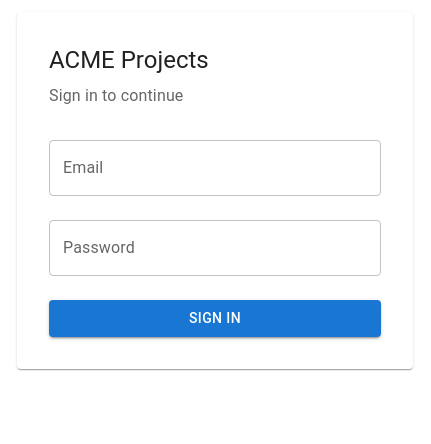
Test: signing in › shows why sign-in failed
The width and height of the screenshot is (431, 444).
Type "a@b.co" into the field labelled "Email" at (215, 168), box [49,140,381,196]
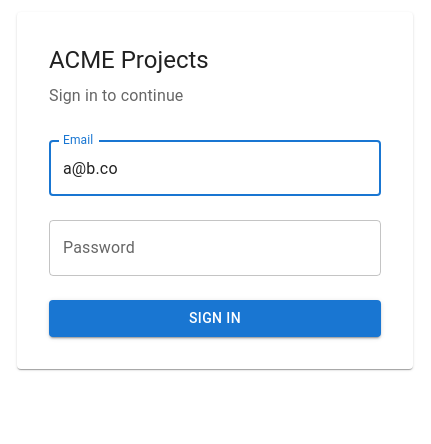
Type "wrong" into the password field labelled "Password" at (215, 248), box [49,220,381,276]
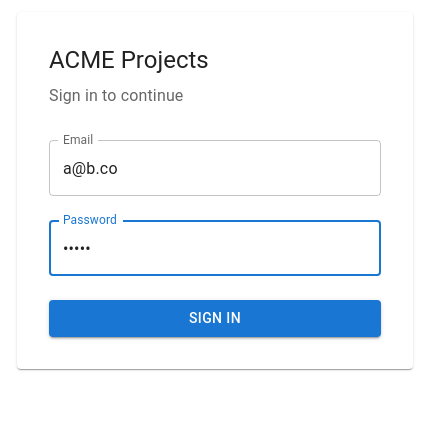
Click the button "Sign in" at (215, 319), box [49,300,381,337]
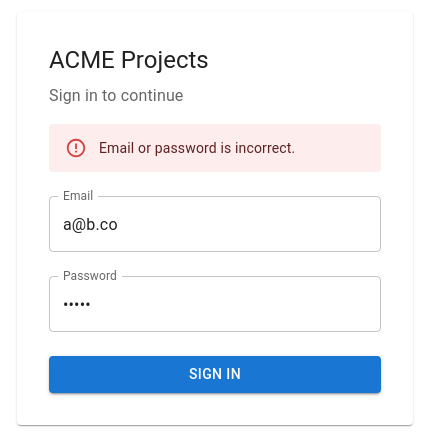
Result: the text "Email or password is incorrect." is shown at [99,140,295,156]
